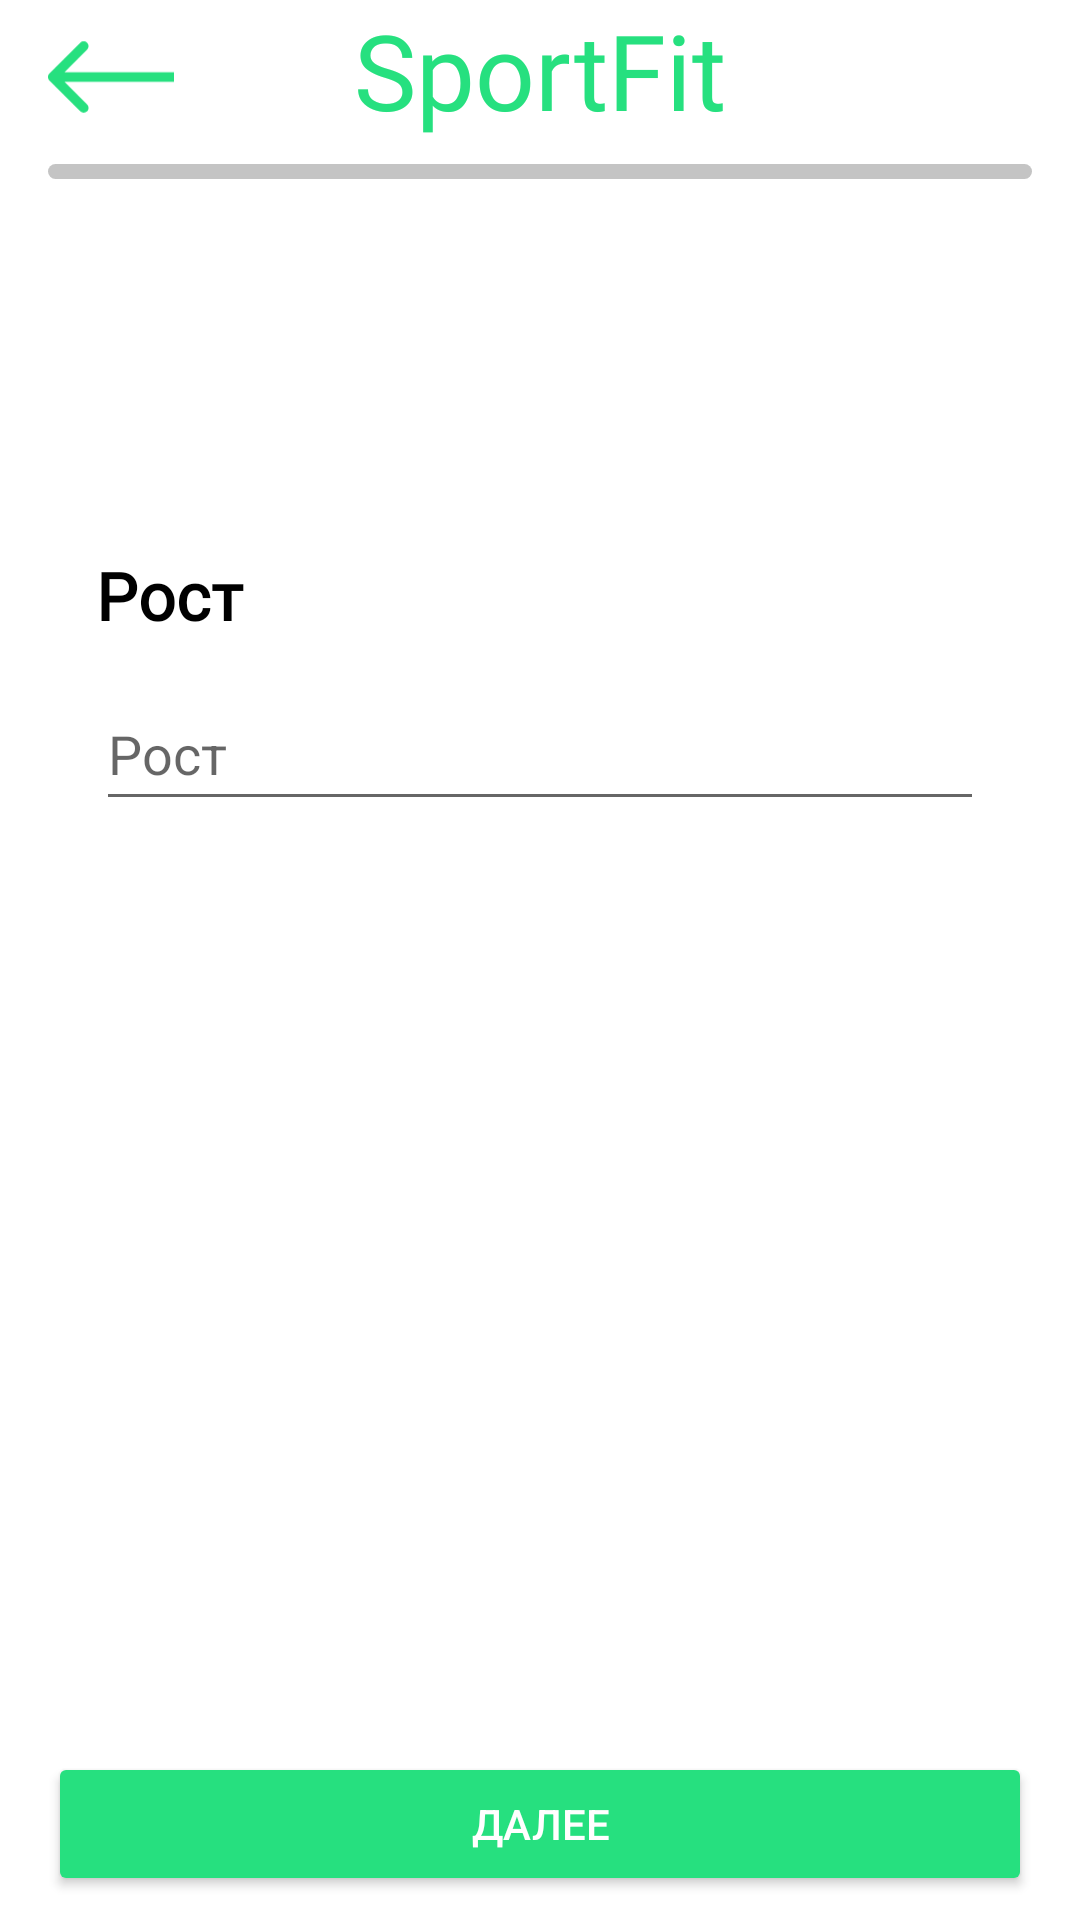

Screen size 1080w x 1920h. Icon name, then its center in pixels as (x,y):
arrow: (111,77)
